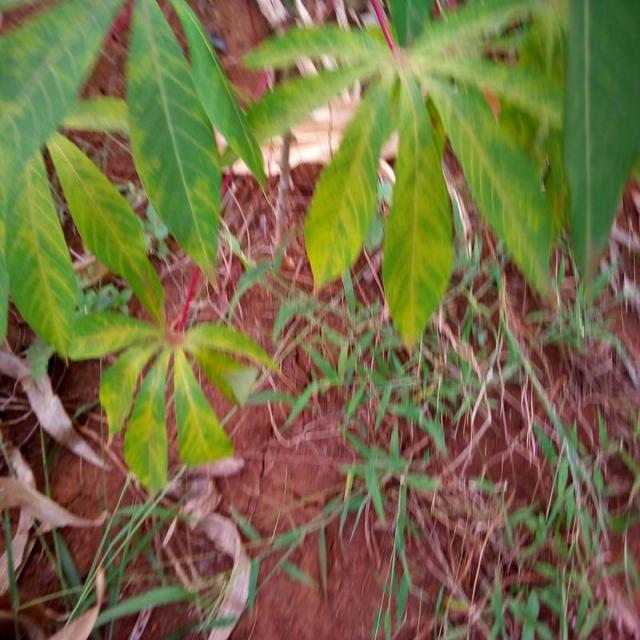cassava leaf: (124, 0, 222, 290), (560, 0, 638, 310), (43, 129, 165, 324), (380, 63, 454, 351)
